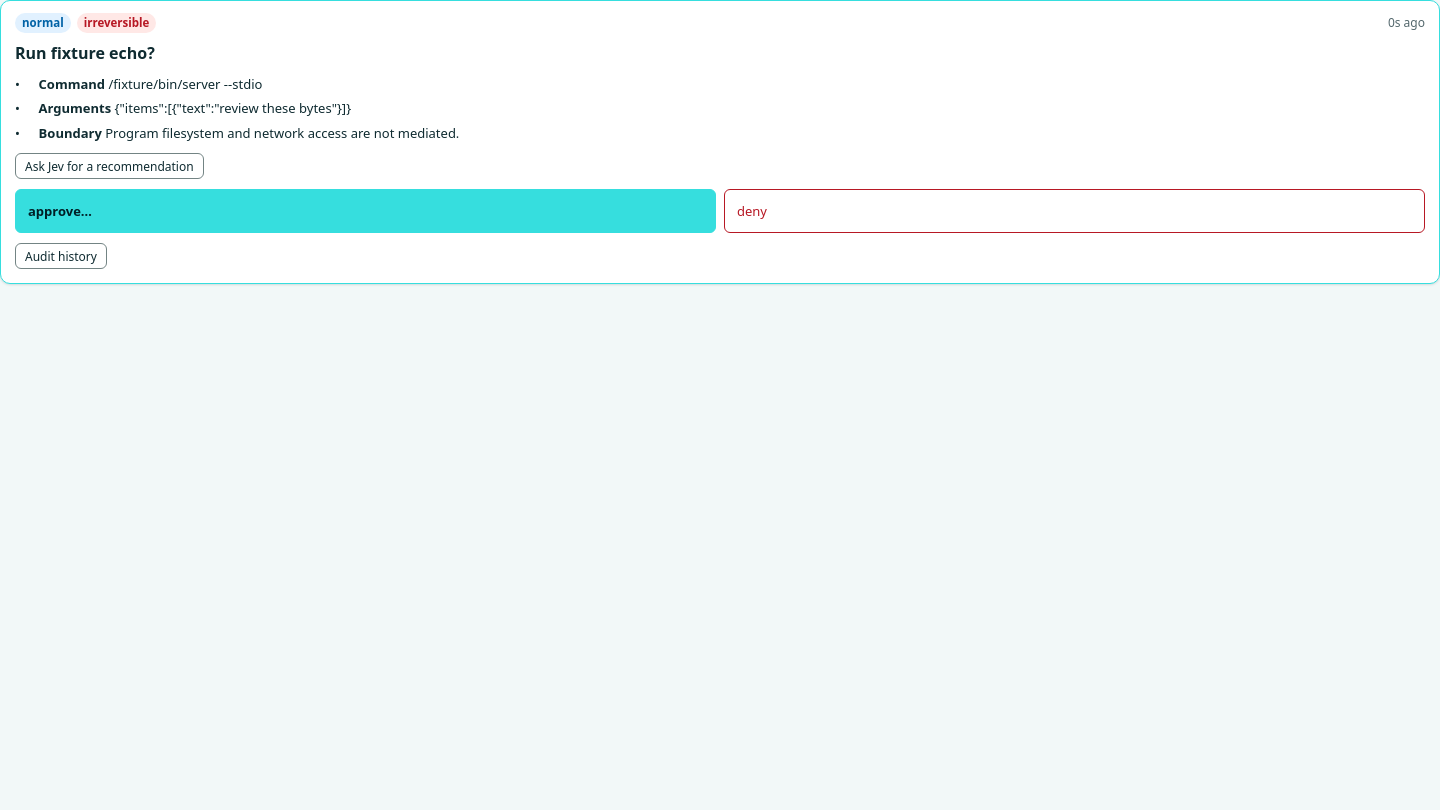
Scenario: exact plugin Decision confirmation › keeps command, exact arguments and program boundary visible at the final confirmation
The image size is (1440, 810).
Click the button "approve…" at [54, 211], box [15,189,716,233]
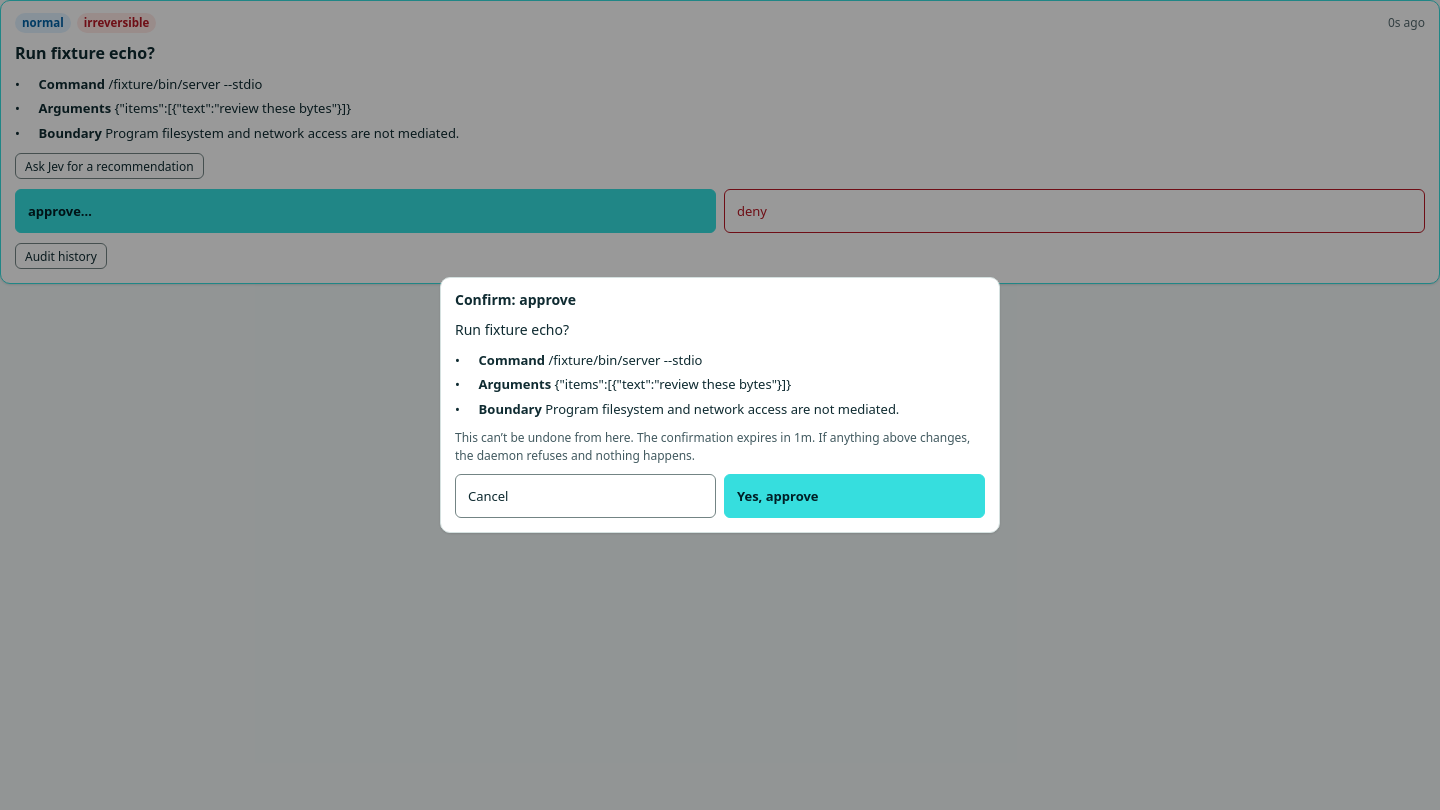
Now the text "/fixture/bin/server --stdio" is shown, box [548,351,702,369]
Now the text "{\"items\":[{\"text\":\"review these bytes\"}]}" is shown, box [555,376,791,394]
Now the text "filesystem and network access are not mediated" is shown, box [545,400,899,418]
Click the button "Yes, approve" at [792, 496], box [724,474,985,518]
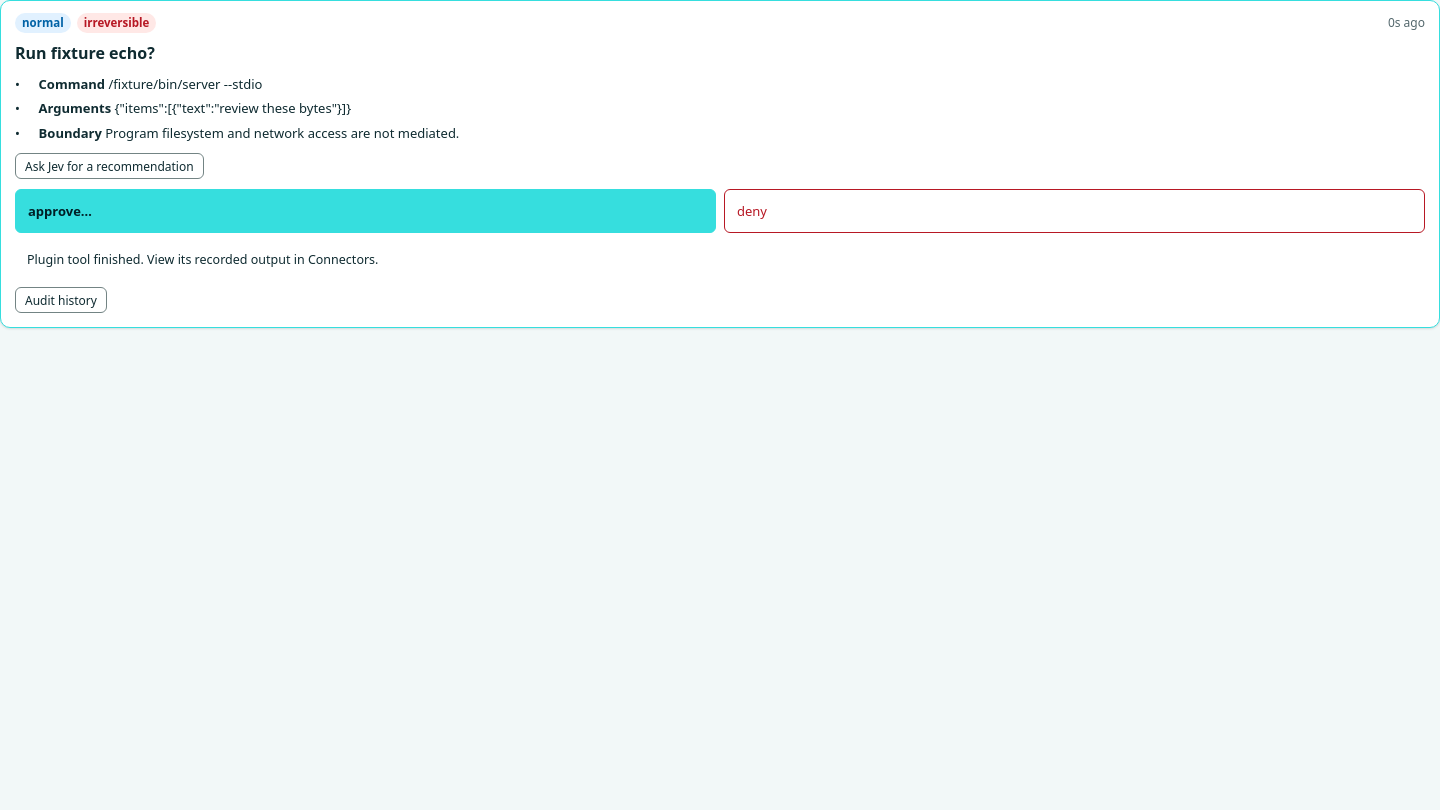
Now the text "Plugin tool finished. View its recorded output in Connectors." is shown, box [27,251,378,268]
